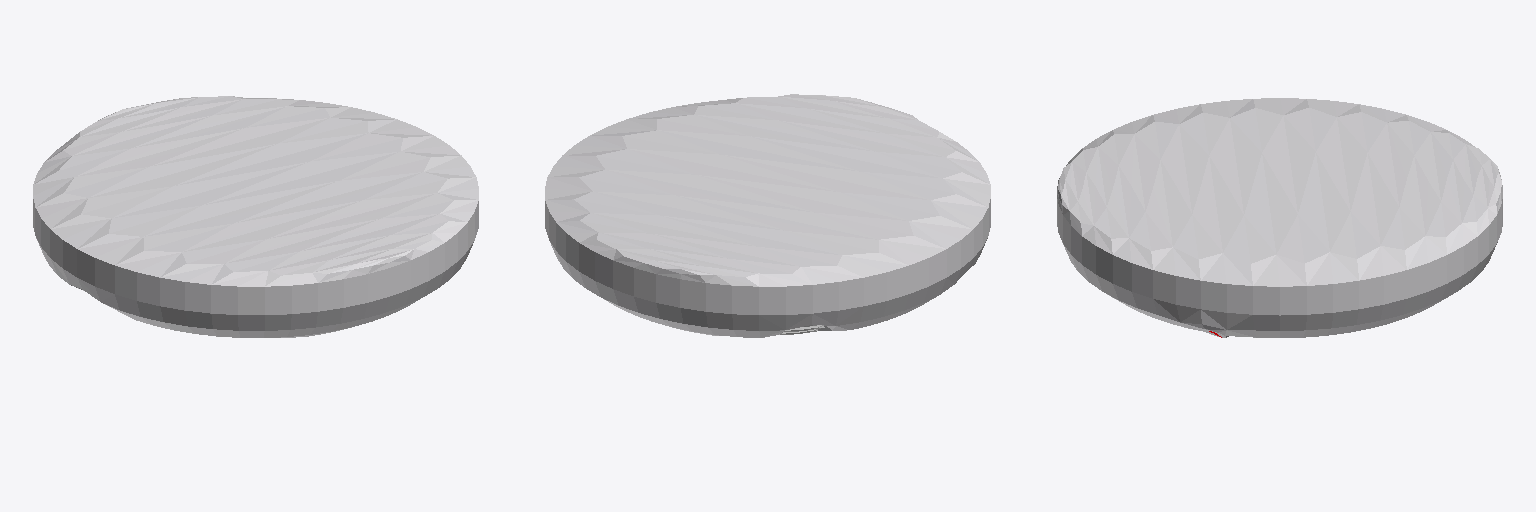
Rendered from OccupancySensor.obj.
3 views of the same model, side by side, from view 1: azimuth 30°, elevation 25°; view 2: azimuth 150°, elevation 25°; view 3: azimuth 270°, elevation 25° (orthographic).
Visible parts, largest first — view 1: OccupancySensor; view 2: OccupancySensor; view 3: OccupancySensor.
Boxes of the visible parts, <box> form: OccupancySensor: <box>33,96,478,337</box>; OccupancySensor: <box>545,94,990,337</box>; OccupancySensor: <box>1057,98,1502,337</box>.
Bounding box in the file's own units: 1.05 × 0.3768 × 1.05.